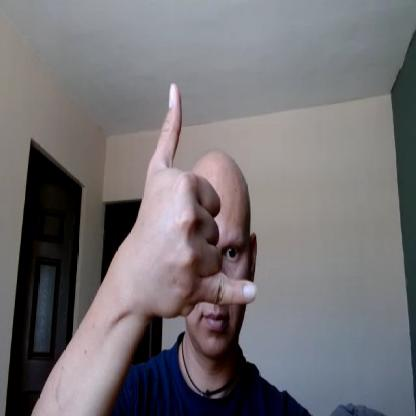Y: (137, 83, 258, 313)
